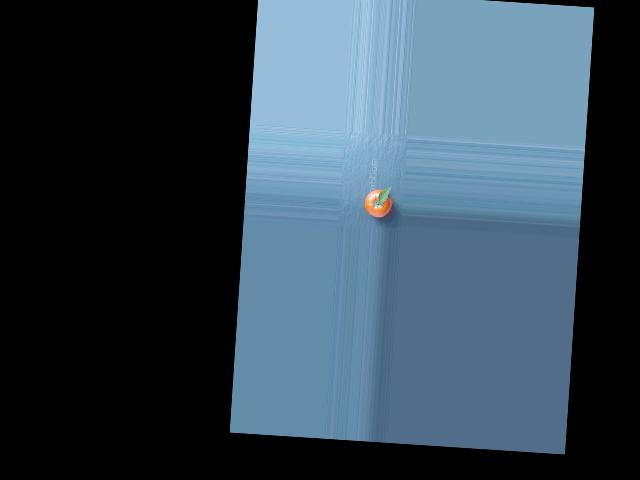tomato: (364, 188, 392, 218)
